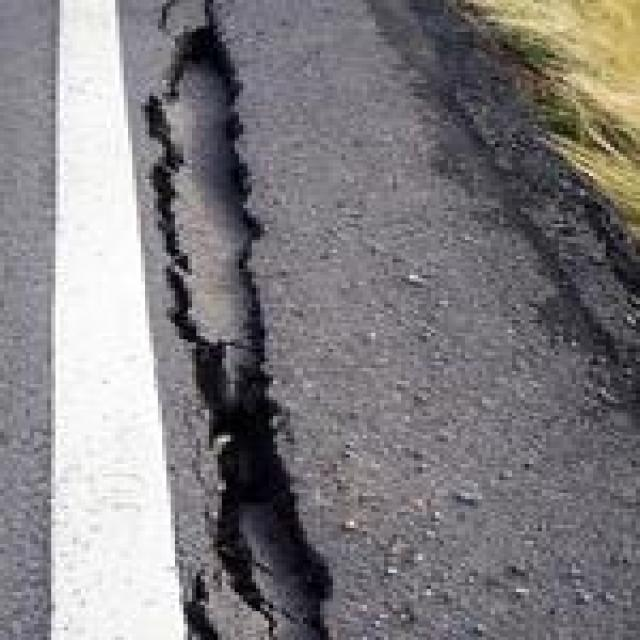road collapse: (54, 0, 631, 640)
